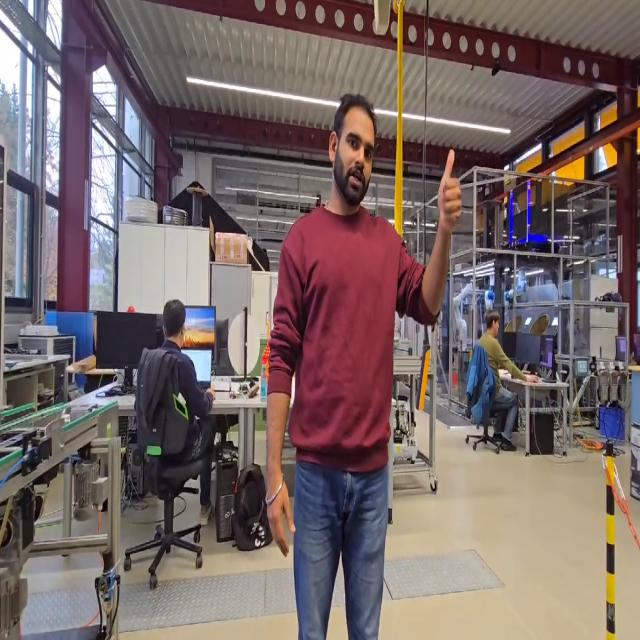thumbs_up: (434, 143, 466, 239)
